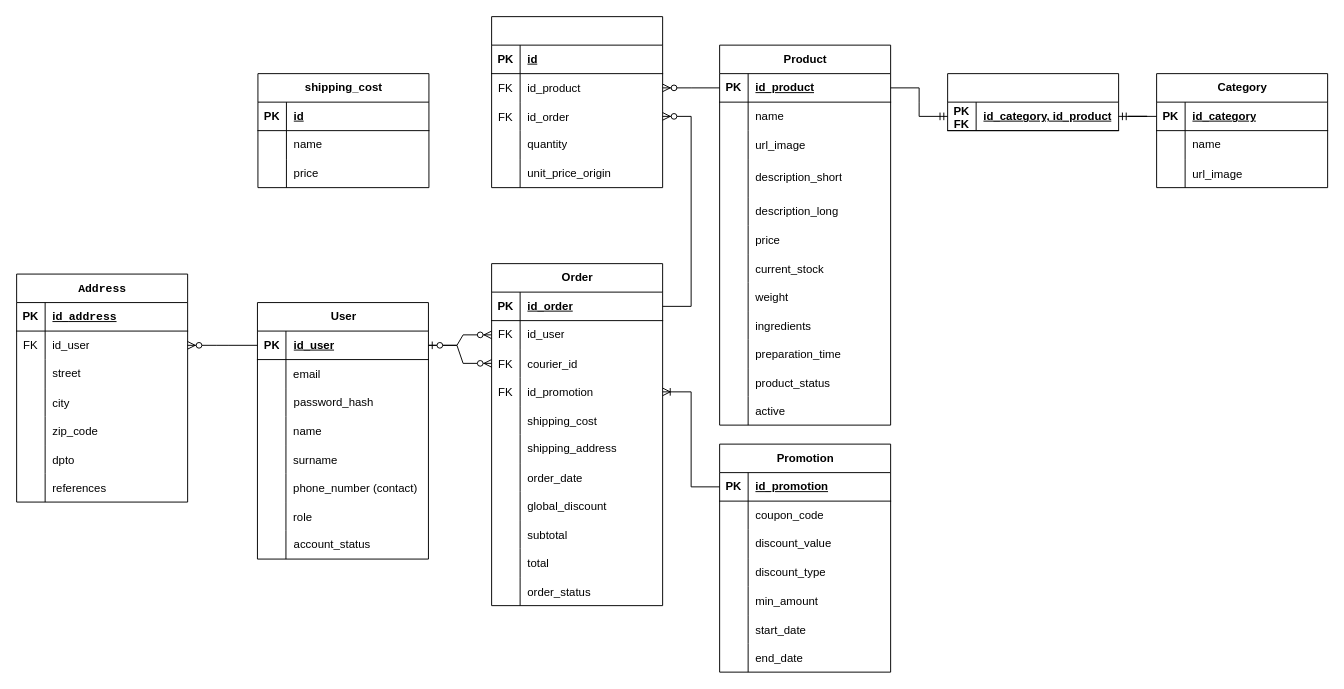
Image size: 1344x689. Some labels were removed from this diagram. The shapes that lost their labels are listed below. From the top down, each one's box as (x1, y1, x2, y2) in pixels, then its label:
(491, 16, 663, 188): Order_item
(947, 73, 1119, 131): Product_category
